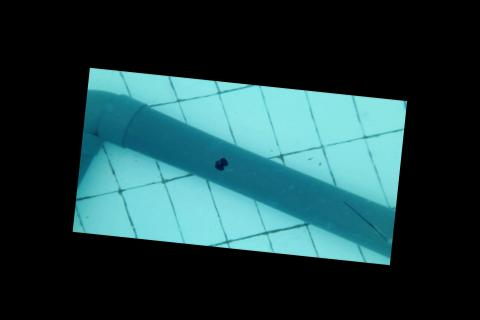kebocoran: (210, 155, 230, 174)
keretakan: (337, 199, 391, 242)
